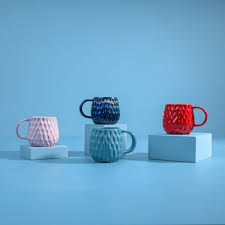mug: (79, 116, 137, 171), (147, 98, 210, 138), (10, 110, 62, 153), (84, 85, 124, 125)
